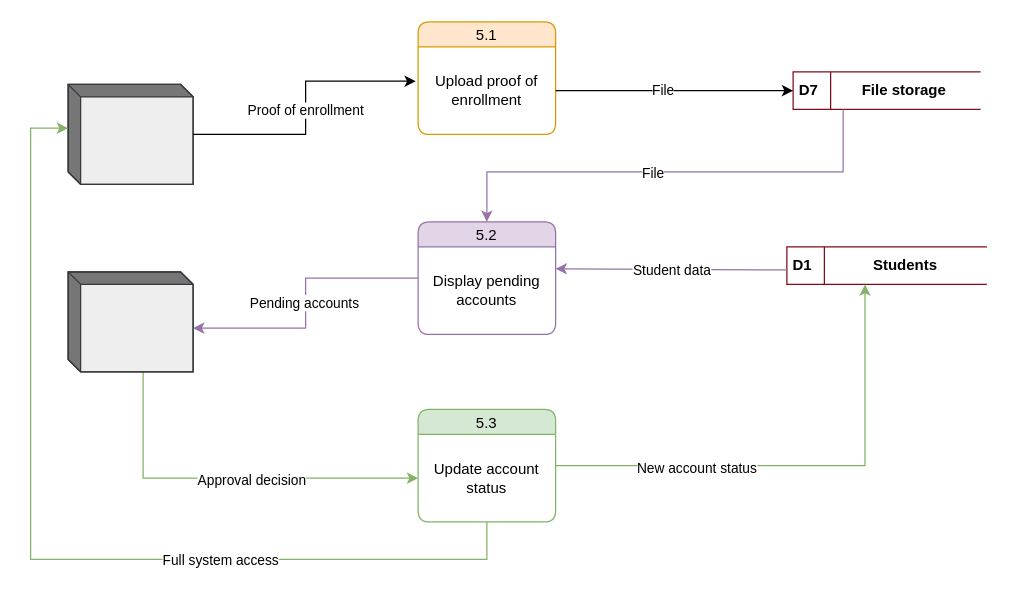
This 1009x591 diagram has some shape labels left out. The shapes that lost their labels are listed below. From the top down, each one's centre as x and y in pixels, then its label:
point (130, 133): Student
point (130, 321): Admin
